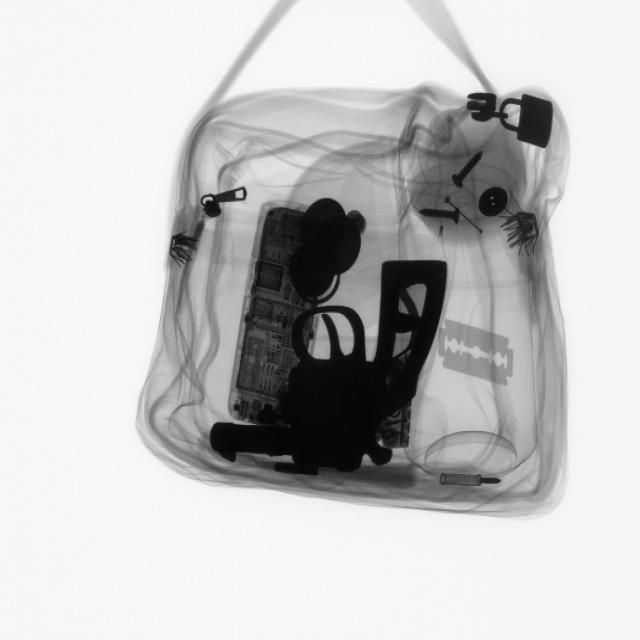BLADE: (433, 314, 519, 391)
GUN: (205, 256, 447, 477)
SCREW: (406, 195, 471, 233), (446, 143, 489, 197)
